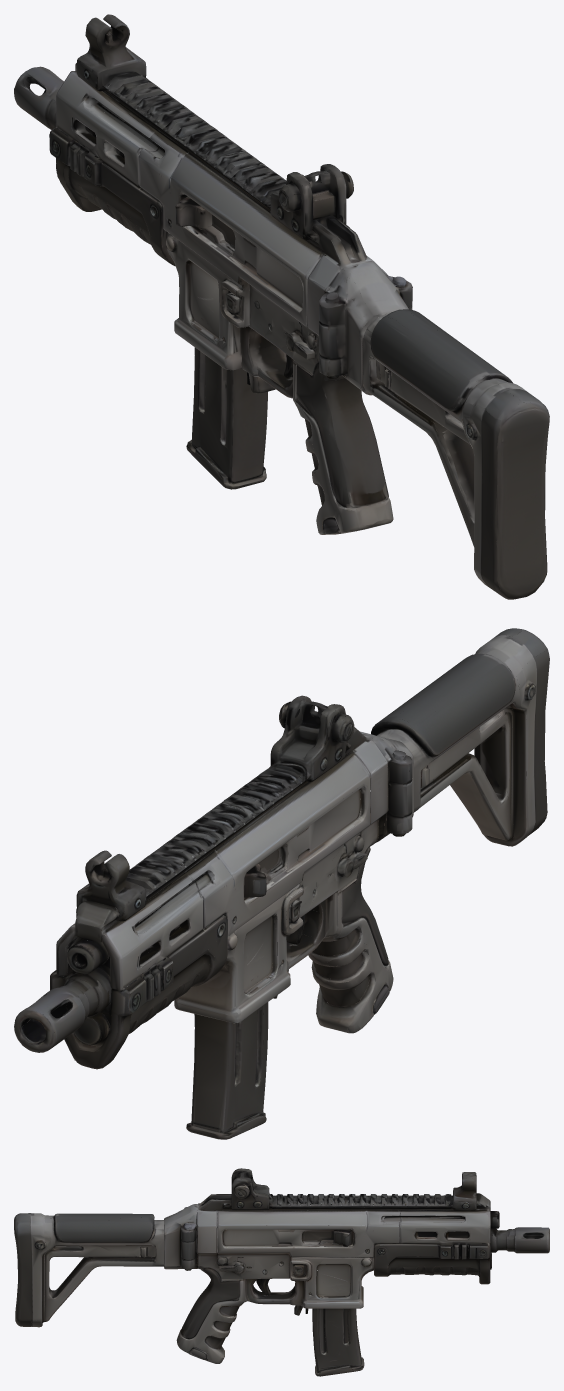
The model's file is ar55_phase_autorifle.glb.
The picture shows the model from 3 angles, top to bottom: view 1: azimuth 30°, elevation 25°; view 2: azimuth 150°, elevation 25°; view 3: azimuth 270°, elevation 25°; orthographic projection. The views are drawn at different scales.
Parts seen in each view (by area): view 1: ar55_phase_autorifle; view 2: ar55_phase_autorifle; view 3: ar55_phase_autorifle.
Part boxes in pixels (x1,y1,x2,y2): ar55_phase_autorifle: (14, 14, 549, 599); ar55_phase_autorifle: (14, 628, 549, 1139); ar55_phase_autorifle: (14, 1168, 549, 1376).
Bounding box in the file's own units: 0.076 × 0.294 × 0.7201.
1 material, 1 textured.
